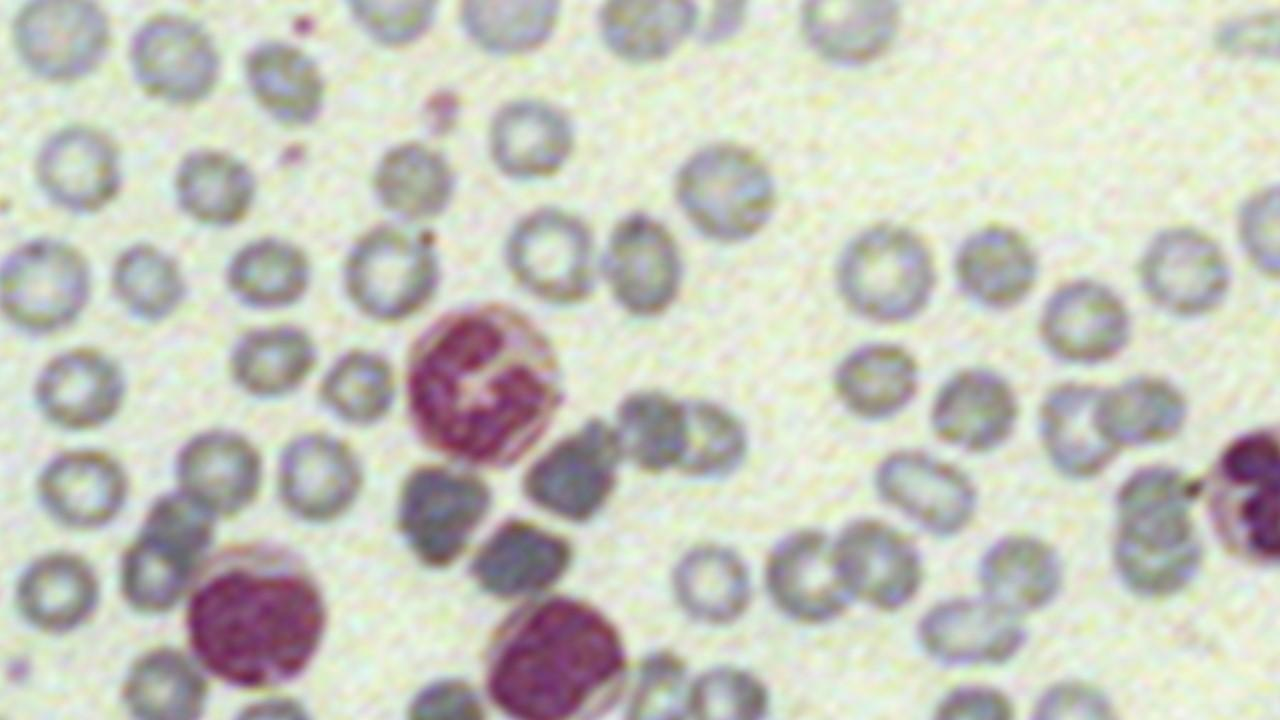RBC: (828, 217, 942, 331), (866, 443, 986, 539), (759, 522, 861, 628), (0, 229, 97, 340), (826, 510, 927, 616), (1033, 272, 1137, 371), (1033, 374, 1127, 482), (27, 442, 134, 536), (26, 343, 132, 435), (924, 362, 1023, 458), (6, 544, 106, 639), (971, 526, 1070, 620), (1090, 368, 1194, 453), (1230, 169, 1280, 286)
WBC: (397, 293, 569, 470), (184, 540, 329, 685), (474, 585, 626, 714), (1201, 426, 1279, 570)
